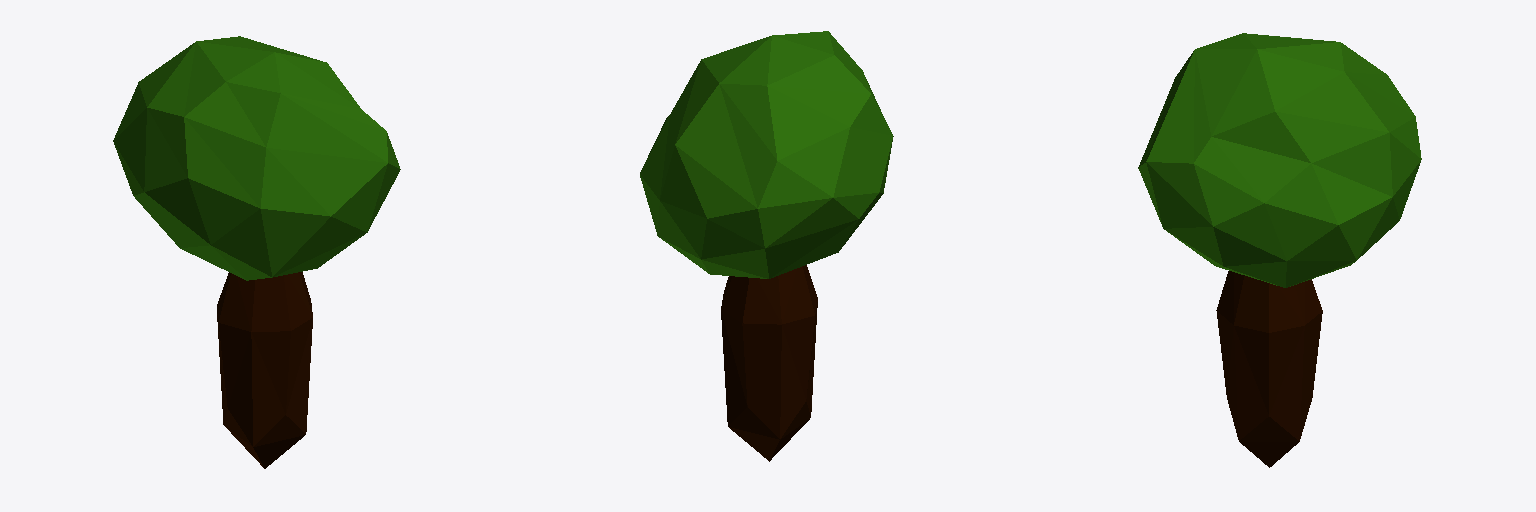
Rendered from tree1.obj.
3 views of the same model, side by side, from view 1: azimuth 30°, elevation 25°; view 2: azimuth 150°, elevation 25°; view 3: azimuth 270°, elevation 25° (orthographic).
Parts seen in each view (by area): view 1: Icosphere_059_Icosphere.059; view 2: Icosphere_059_Icosphere.059; view 3: Icosphere_059_Icosphere.059.
Part boxes in pixels (bbox=[...]): Icosphere_059_Icosphere.059: bbox=[113, 36, 400, 468]; Icosphere_059_Icosphere.059: bbox=[640, 31, 893, 461]; Icosphere_059_Icosphere.059: bbox=[1138, 33, 1421, 467].
Bounding box in the file's own units: 1.2 × 2.17 × 1.32.